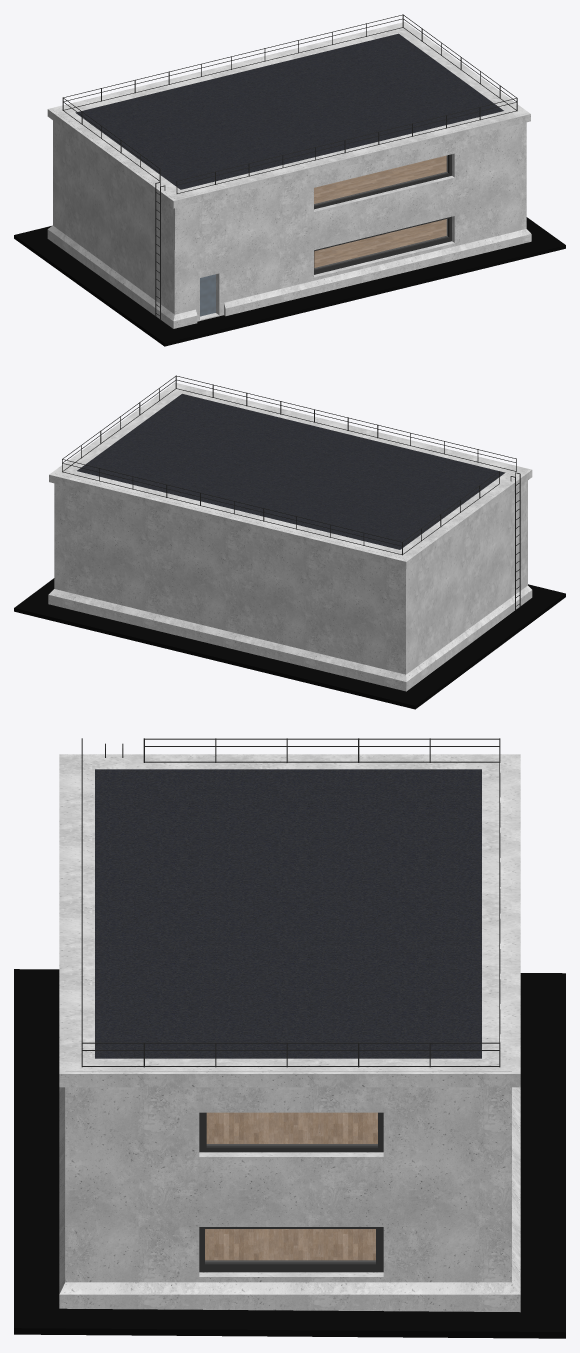
The model's file is military_control_building.gltf.
3 views of the same model, one above another, from view 1: azimuth 30°, elevation 25°; view 2: azimuth 150°, elevation 25°; view 3: azimuth 270°, elevation 25° (orthographic). The views are drawn at different scales.
Visible parts, largest first — view 1: Walls_Outer_Walls_0-col, Roof_Roof_1_0-col, Outer_Floor_O_floor_0-col, _1st_Inner_Floor_Outer_Walls_0-col, Roof_Outer_Walls_0-col, Roof_Railing_Railing_0-col, glass_1_1, glass_1, _1st_Inner_Floor_Floor_1_0-col, _2nd_Inner_Floor_Floor_1_0-col, window_2_window_0-col, window_1_window_0-col (+2 smaller); view 2: Walls_Outer_Walls_0-col, Roof_Roof_1_0-col, Outer_Floor_O_floor_0-col, _1st_Inner_Floor_Outer_Walls_0-col, Roof_Outer_Walls_0-col, Roof_Railing_Railing_0-col, Ladder_Railing_0-col; view 3: Roof_Roof_1_0-col, Walls_Outer_Walls_0-col, Outer_Floor_O_floor_0-col, _1st_Inner_Floor_Outer_Walls_0-col, Roof_Outer_Walls_0-col, glass_2, glass_2_1, _2nd_Inner_Floor_Floor_1_0-col, _1st_Inner_Floor_Floor_1_0-col, Roof_Railing_Railing_0-col, window_4_window_0-col, window_3_window_0-col.
Part boxes in pixels (x1,y1,x2,y2): Walls_Outer_Walls_0-col: (53,24,526,321); Roof_Roof_1_0-col: (75,33,503,189); Outer_Floor_O_floor_0-col: (14,217,565,346); _1st_Inner_Floor_Outer_Walls_0-col: (47,225,531,328); Roof_Outer_Walls_0-col: (47,22,530,208); Roof_Railing_Railing_0-col: (62,14,517,193); glass_1_1: (314,219,447,268); glass_1: (314,155,447,204); _1st_Inner_Floor_Floor_1_0-col: (314,219,446,267); _2nd_Inner_Floor_Floor_1_0-col: (314,155,446,203); window_2_window_0-col: (314,216,451,274); window_1_window_0-col: (314,154,451,209); Walls_Outer_Walls_0-col: (54,384,527,674); Roof_Roof_1_0-col: (77,394,505,549); Outer_Floor_O_floor_0-col: (14,578,565,709); _1st_Inner_Floor_Outer_Walls_0-col: (48,586,532,691); Roof_Outer_Walls_0-col: (49,382,532,569); Roof_Railing_Railing_0-col: (62,375,516,555); Ladder_Railing_0-col: (510,472,520,610); Roof_Roof_1_0-col: (95,769,481,1058); Walls_Outer_Walls_0-col: (65,756,511,1282); Outer_Floor_O_floor_0-col: (14,969,565,1338); _1st_Inner_Floor_Outer_Walls_0-col: (59,1087,520,1312); Roof_Outer_Walls_0-col: (59,754,520,1087); glass_2: (207,1113,377,1145); glass_2_1: (205,1229,375,1261); _2nd_Inner_Floor_Floor_1_0-col: (206,1112,377,1143); _1st_Inner_Floor_Floor_1_0-col: (205,1229,375,1260); Roof_Railing_Railing_0-col: (81,738,500,1067); window_4_window_0-col: (199,1227,383,1272); window_3_window_0-col: (199,1112,383,1152).
Bounding box in the file's own units: 28.53 × 9.97 × 18.54.
13 materials, 8 textured.
